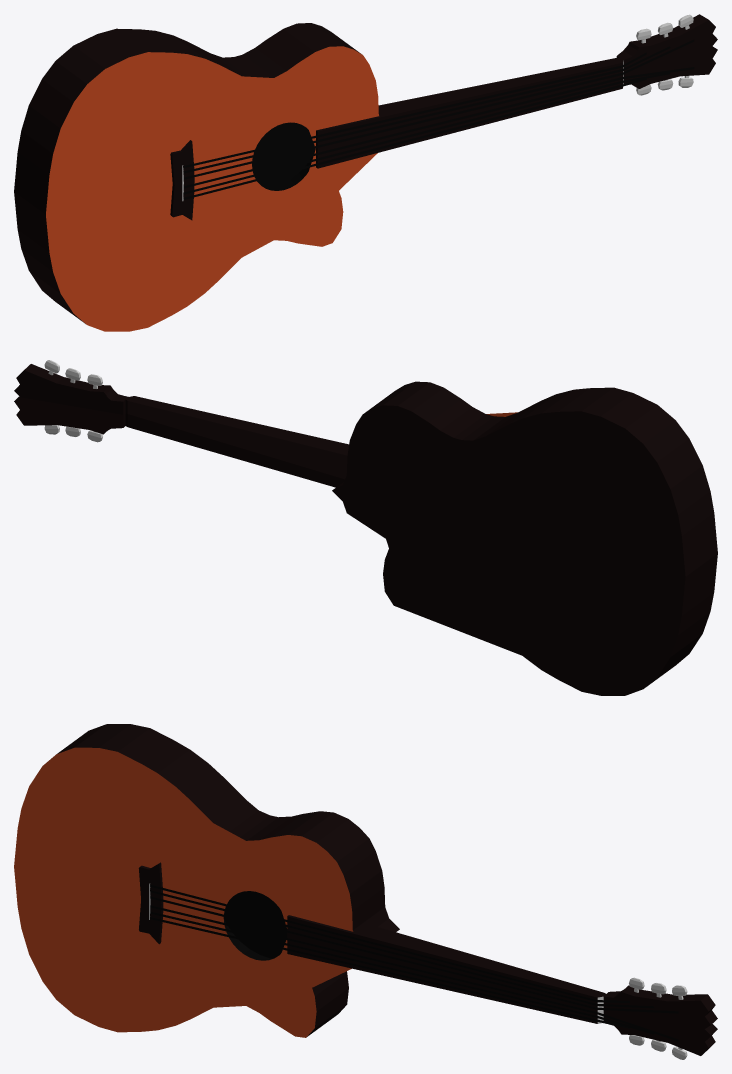
The model's file is guitar.obj.
3 renders of one model, top to bottom at view 1: azimuth 30°, elevation 25°; view 2: azimuth 150°, elevation 25°; view 3: azimuth 330°, elevation 25°, orthographic.
Visible parts, largest first — view 1: guitar; view 2: guitar; view 3: guitar.
Boxes of the visible parts, left/top/right/bottom form: guitar: left=14, top=14, right=717, bottom=331; guitar: left=14, top=360, right=717, bottom=695; guitar: left=14, top=724, right=717, bottom=1059.
Bounding box in the file's own units: 7.85 × 3.05 × 0.676.
